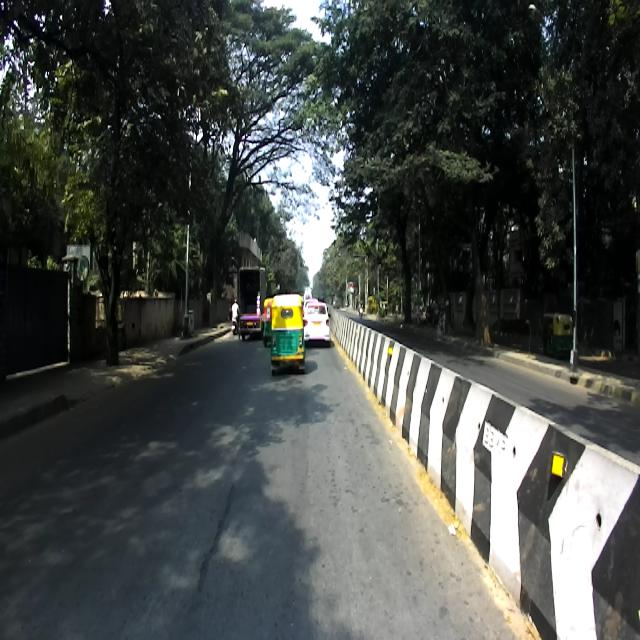auto ahead at: (266, 293, 304, 369)
truck ahead at: (88, 223, 127, 359), (234, 260, 266, 344)
